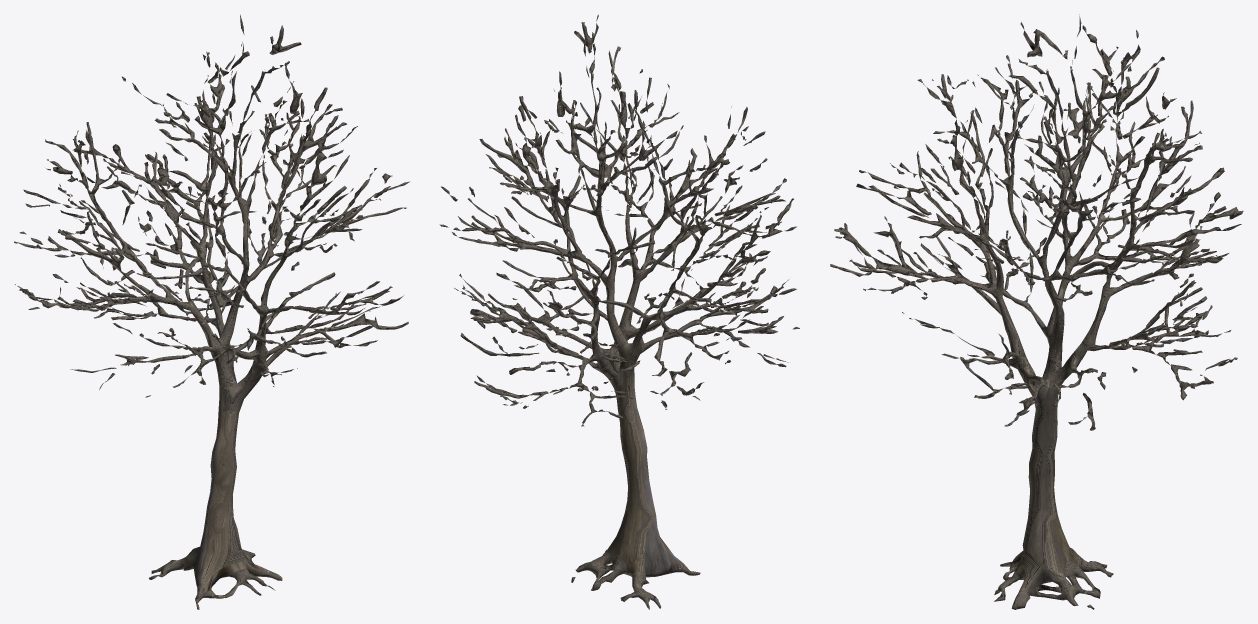
The model's file is bare.glb.
The picture shows the model from 3 angles, left to right: view 1: azimuth 30°, elevation 25°; view 2: azimuth 150°, elevation 25°; view 3: azimuth 270°, elevation 25°; orthographic projection. The views are drawn at different scales.
Bounding box in the file's own units: 1.27 × 1.99 × 1.25.
1 material, 1 textured.
